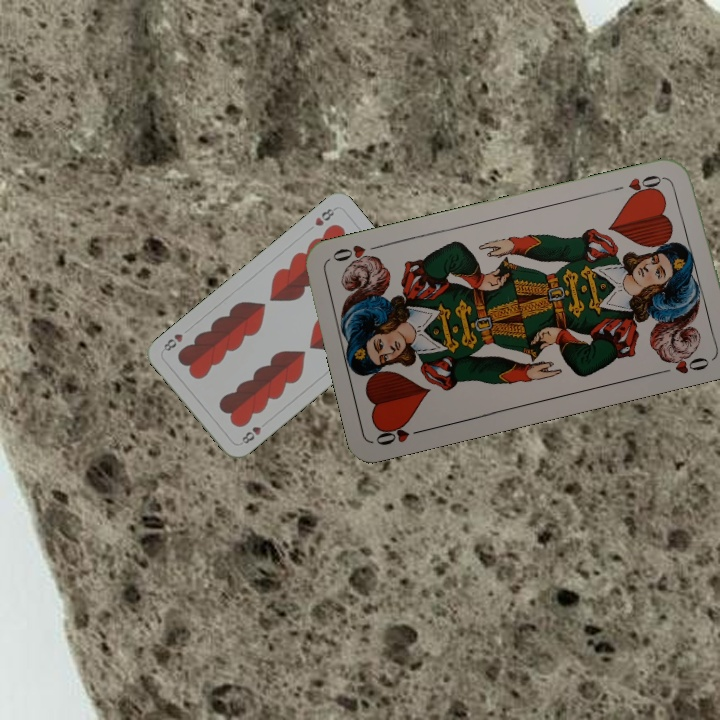H8: (311, 204, 339, 229), (238, 422, 264, 446)
HO: (609, 171, 668, 201), (372, 418, 431, 448)
